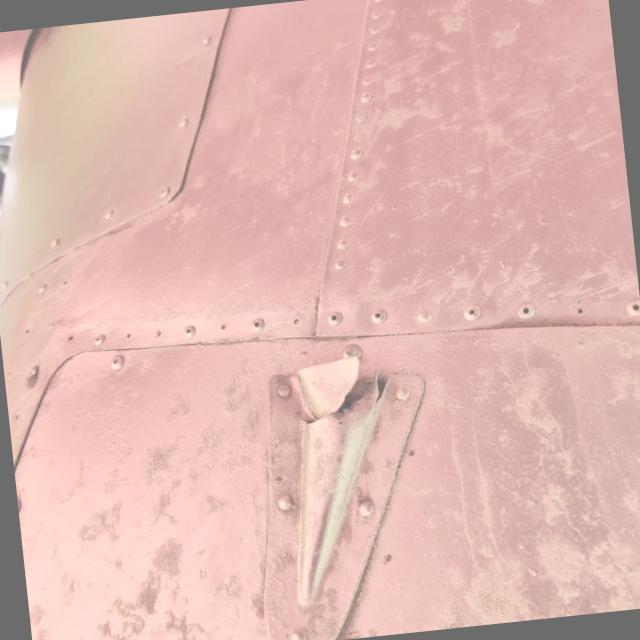crack: (268, 331, 407, 453)
